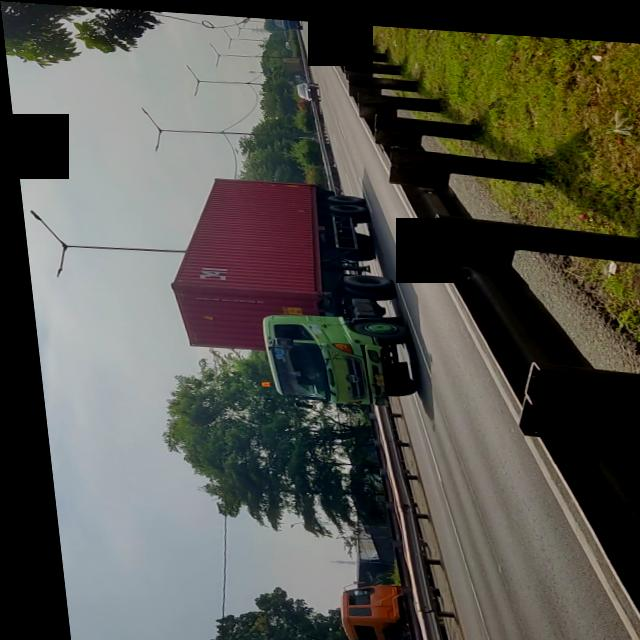Golongan IV: (170, 170, 410, 409)
